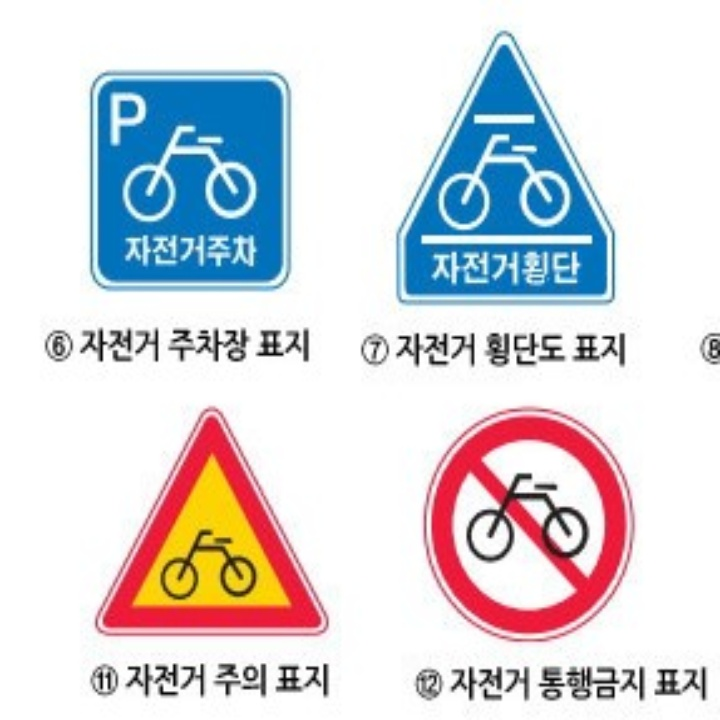bicycle: (99, 408, 335, 641)
parking: (104, 86, 151, 152)
